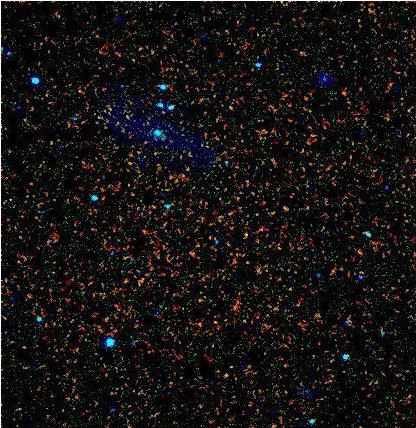star: (287, 39, 317, 69)
